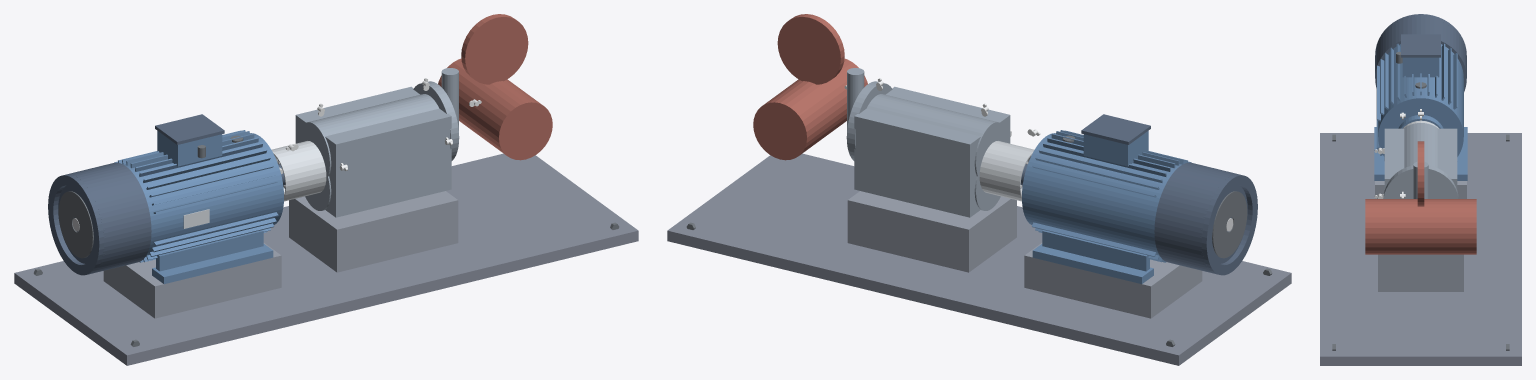
Rendered from compressor.glb.
3 renders of one model, left to right at view 1: azimuth 30°, elevation 25°; view 2: azimuth 150°, elevation 25°; view 3: azimuth 270°, elevation 25°, orthographic. The views are drawn at different scales.
Parts seen in each view (by area): view 1: PART_001, CASING_AIREND_051, PART_055, CASING_MOTORBODY_006, PART_022, CASING_FINS_009, CASING_SEPARATOR_070, CASING_COWL_010, CASING_SEPARATOR_071, CASING_AIREND_052, CASING_COWL_011, CASING_GUARD_050 (+8 smaller); view 2: PART_001, CASING_AIREND_051, CASING_MOTORBODY_006, PART_055, PART_022, CASING_SEPARATOR_070, CASING_COWL_010, CASING_FINS_009, CASING_SEPARATOR_071, CASING_AIREND_052, CASING_COWL_011, CASING_GUARD_050 (+8 smaller); view 3: PART_001, CASING_SEPARATOR_070, PART_055, CASING_FINS_009, CASING_COWL_010, CASING_MOTORBODY_006, CASING_AIREND_051, CASING_ENDBELL_007, CASING_AIREND_054, CASING_AIREND_052, PART_014, CASING_TERMBOX_013 (+7 smaller).
Part boxes in pixels (left/top/right/bottom): PART_001: left=14, top=153, right=638, bottom=365; CASING_AIREND_051: left=295, top=86, right=451, bottom=217; PART_055: left=289, top=191, right=458, bottom=272; CASING_MOTORBODY_006: left=124, top=133, right=282, bottom=256; PART_022: left=103, top=243, right=281, bottom=318; CASING_FINS_009: left=114, top=130, right=278, bottom=262; CASING_SEPARATOR_070: left=438, top=58, right=552, bottom=160; CASING_COWL_010: left=58, top=162, right=151, bottom=273; CASING_SEPARATOR_071: left=461, top=14, right=528, bottom=84; CASING_AIREND_052: left=299, top=94, right=439, bottom=178; CASING_COWL_011: left=48, top=174, right=105, bottom=275; CASING_GUARD_050: left=271, top=141, right=326, bottom=201; PART_001: left=667, top=153, right=1291, bottom=365; CASING_AIREND_051: left=854, top=86, right=1010, bottom=217; CASING_MOTORBODY_006: left=1023, top=133, right=1181, bottom=256; PART_055: left=847, top=191, right=1016, bottom=272; PART_022: left=1024, top=243, right=1202, bottom=318; CASING_SEPARATOR_070: left=753, top=58, right=867, bottom=160; CASING_COWL_010: left=1154, top=162, right=1247, bottom=273; CASING_FINS_009: left=1032, top=130, right=1191, bottom=262; CASING_SEPARATOR_071: left=777, top=14, right=844, bottom=84; CASING_AIREND_052: left=866, top=94, right=1006, bottom=178; CASING_COWL_011: left=1200, top=174, right=1257, bottom=275; CASING_GUARD_050: left=979, top=141, right=1034, bottom=201; PART_001: left=1320, top=133, right=1521, bottom=365; CASING_SEPARATOR_070: left=1365, top=199, right=1476, bottom=254; PART_055: left=1378, top=254, right=1463, bottom=291; CASING_FINS_009: left=1376, top=43, right=1457, bottom=160; CASING_COWL_010: left=1375, top=16, right=1466, bottom=91; CASING_MOTORBODY_006: left=1378, top=44, right=1463, bottom=135; CASING_AIREND_051: left=1384, top=128, right=1457, bottom=189; CASING_ENDBELL_007: left=1378, top=94, right=1463, bottom=156; CASING_AIREND_054: left=1383, top=165, right=1458, bottom=198; CASING_AIREND_052: left=1404, top=123, right=1437, bottom=167; PART_014: left=1401, top=34, right=1440, bottom=57; CASING_TERMBOX_013: left=1402, top=57, right=1439, bottom=77.
Bounding box in the file's own units: 3.8 × 1.46 × 1.45.
